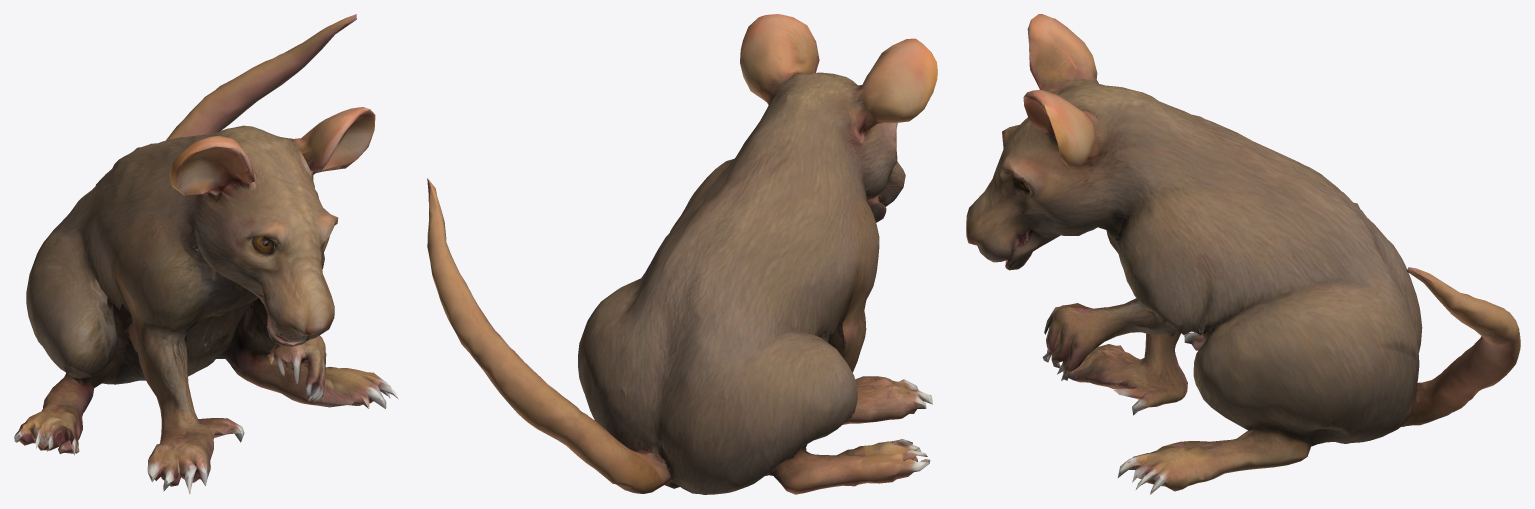
File: monster_46.glb
3 renders of one model, left to right at view 1: azimuth 30°, elevation 25°; view 2: azimuth 150°, elevation 25°; view 3: azimuth 270°, elevation 25°, orthographic. The views are drawn at different scales.
Parts seen in each view (by area): view 1: Giant_Rat_monster_0707192802_texture; view 2: Giant_Rat_monster_0707192802_texture; view 3: Giant_Rat_monster_0707192802_texture.
Boxes of the visible parts, x1,y1,x2,y2 form: Giant_Rat_monster_0707192802_texture: (14,14,398,494); Giant_Rat_monster_0707192802_texture: (427,14,937,494); Giant_Rat_monster_0707192802_texture: (966,14,1520,494).
Size of the model in its own units: 1.82 by 1.49 by 2.
Materials: 1 (1 with a texture image).
